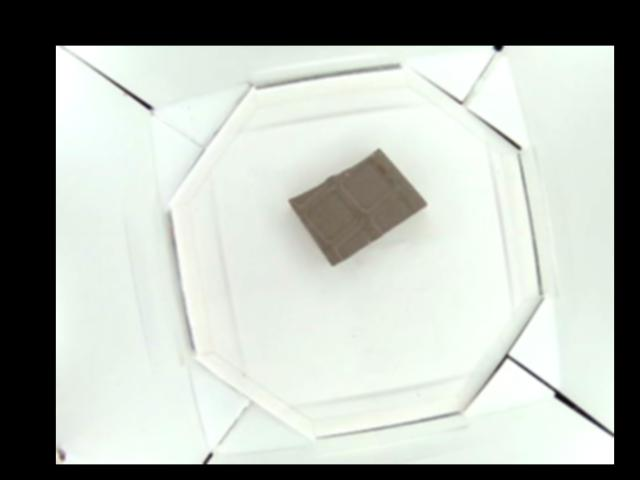China: (286, 150, 427, 263)
